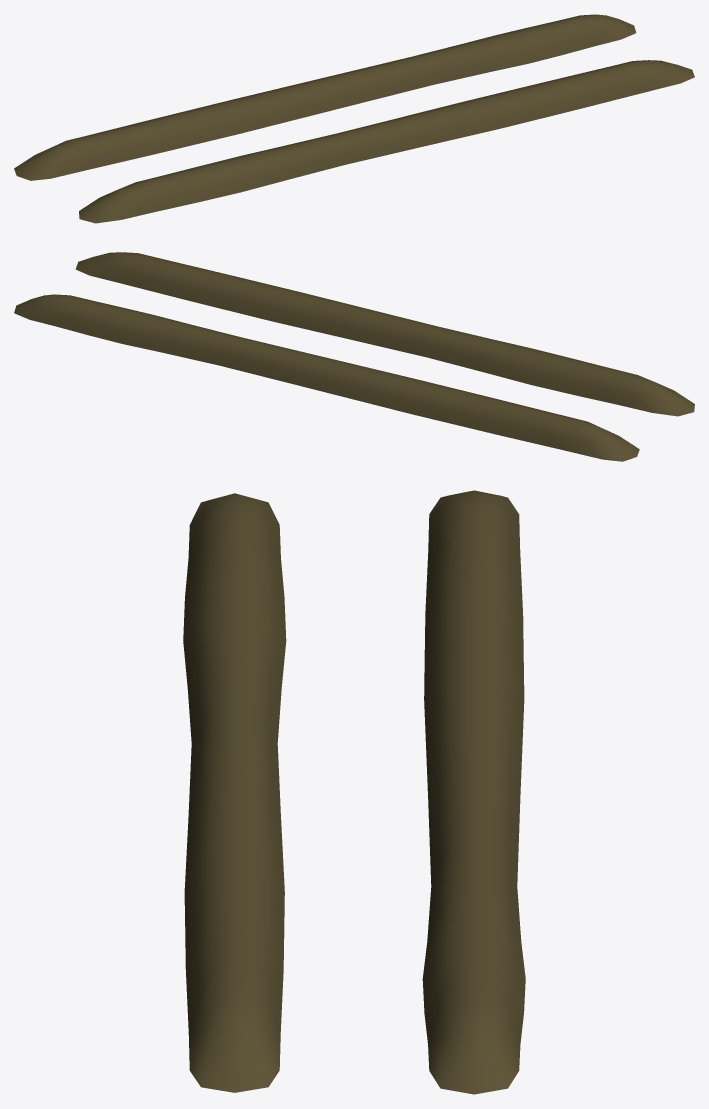
The model's file is quaternius-ultimate-fantasy-rts-farm-firstage-level-1.glb.
3 views of the same model, one above another, from view 1: azimuth 30°, elevation 25°; view 2: azimuth 150°, elevation 25°; view 3: azimuth 270°, elevation 25° (orthographic). The views are drawn at different scales.
Parts seen in each view (by area): view 1: Farm_FirstAge_Level1; view 2: Farm_FirstAge_Level1; view 3: Farm_FirstAge_Level1.
Boxes of the visible parts, x1,y1,x2,y2 form: Farm_FirstAge_Level1: (14, 14, 694, 223); Farm_FirstAge_Level1: (14, 252, 694, 461); Farm_FirstAge_Level1: (183, 490, 525, 1094).
Size of the model in its own units: 1.77 by 0.0563 by 0.4246.
